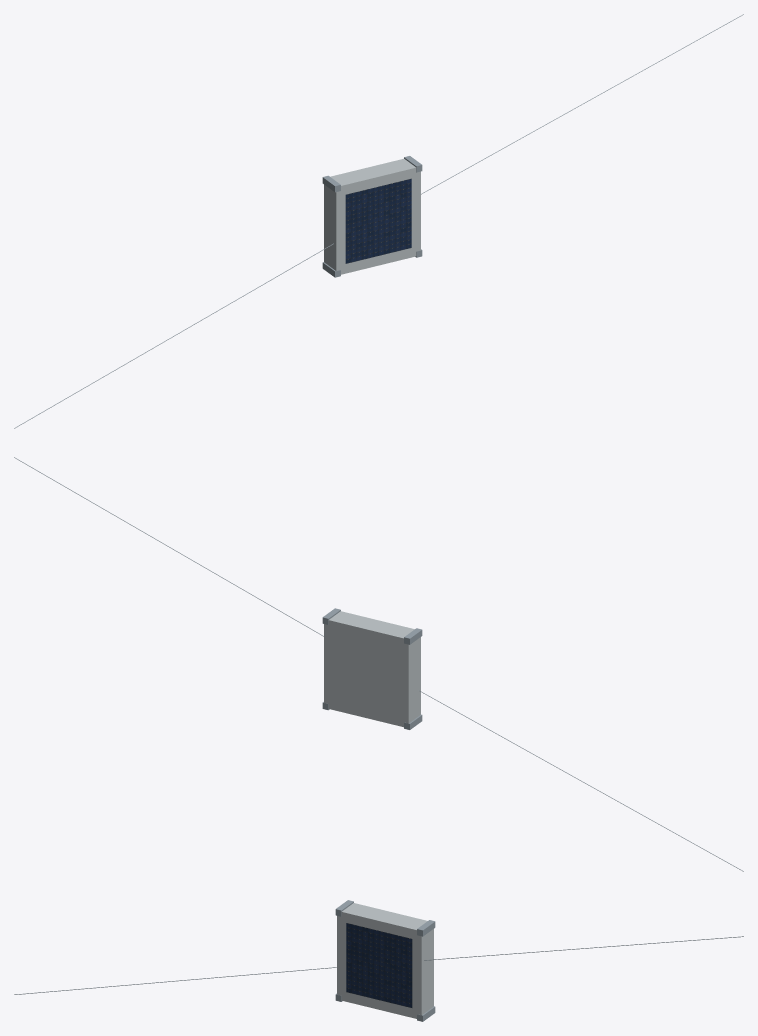
File: ref-cubesat-0-25u-43139.glb
The picture shows the model from 3 angles, top to bottom: view 1: azimuth 30°, elevation 25°; view 2: azimuth 150°, elevation 25°; view 3: azimuth 330°, elevation 25°; orthographic projection.
Visible parts, largest first — view 1: Spacecraft body, Body-mounted cells; view 2: Spacecraft body; view 3: Spacecraft body, Body-mounted cells, Antenna boom (×2).
Boxes of the visible parts, bbox=[...] form: Spacecraft body: bbox=[324, 158, 420, 274]; Body-mounted cells: bbox=[345, 178, 411, 263]; Spacecraft body: bbox=[324, 611, 420, 727]; Spacecraft body: bbox=[337, 903, 433, 1018]; Body-mounted cells: bbox=[346, 923, 412, 1007]; Antenna boom (×2): bbox=[14, 936, 743, 994].
Size of the model in its own units: 0.86 by 0.2665 by 0.0263.
Materials: 3 (1 with a texture image).
